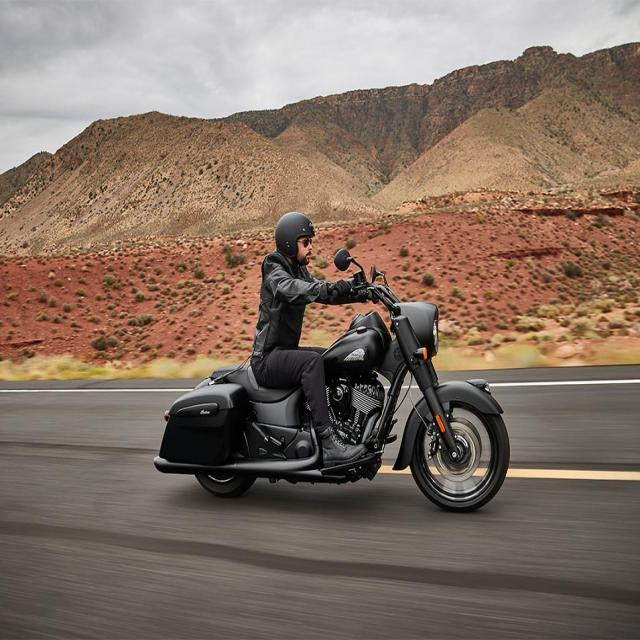motorcycle: (154, 212, 510, 512)
